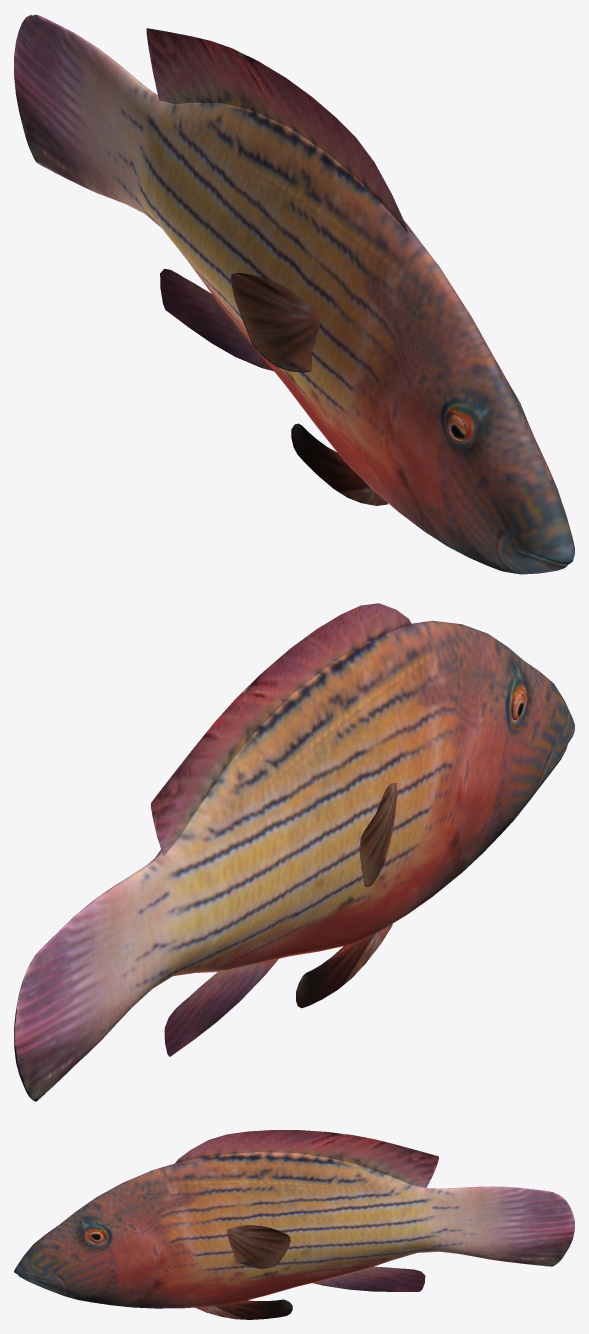
File: fish4.fbx
3 renders of one model, top to bottom at view 1: azimuth 30°, elevation 25°; view 2: azimuth 150°, elevation 25°; view 3: azimuth 270°, elevation 25°, orthographic. The views are drawn at different scales.
Parts seen in each view (by area): view 1: fish04_redbanded_mesh; view 2: fish04_redbanded_mesh; view 3: fish04_redbanded_mesh.
Boxes of the visible parts, <box> form: fish04_redbanded_mesh: <box>14,14,574,574</box>; fish04_redbanded_mesh: <box>14,603,574,1101</box>; fish04_redbanded_mesh: <box>14,1130,574,1319</box>.
Size of the model in its own units: 6.63 by 17.29 by 46.28.
